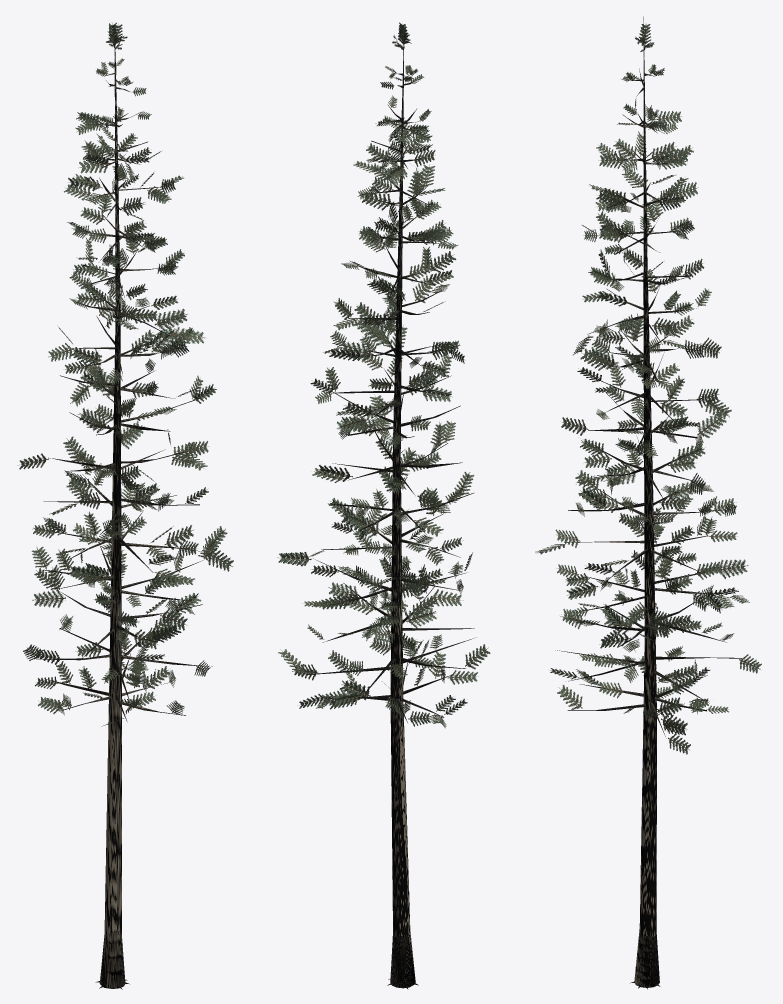
The model's file is Sitka_Mature_02_Unpruned_LOD2.fbx.
3 views of the same model, side by side, from view 1: azimuth 30°, elevation 25°; view 2: azimuth 150°, elevation 25°; view 3: azimuth 270°, elevation 25° (orthographic).
Parts seen in each view (by area): view 1: Sitka_Mature_02_Unpruned_LOD2; view 2: Sitka_Mature_02_Unpruned_LOD2; view 3: Sitka_Mature_02_Unpruned_LOD2.
Part boxes in pixels (x1,y1,x2,y2): Sitka_Mature_02_Unpruned_LOD2: [17, 22, 233, 989]; Sitka_Mature_02_Unpruned_LOD2: [277, 22, 490, 989]; Sitka_Mature_02_Unpruned_LOD2: [535, 16, 761, 989].
Bounding box in the file's own units: 614 × 2600 × 589.
Materials: 2 (2 with a texture image).
